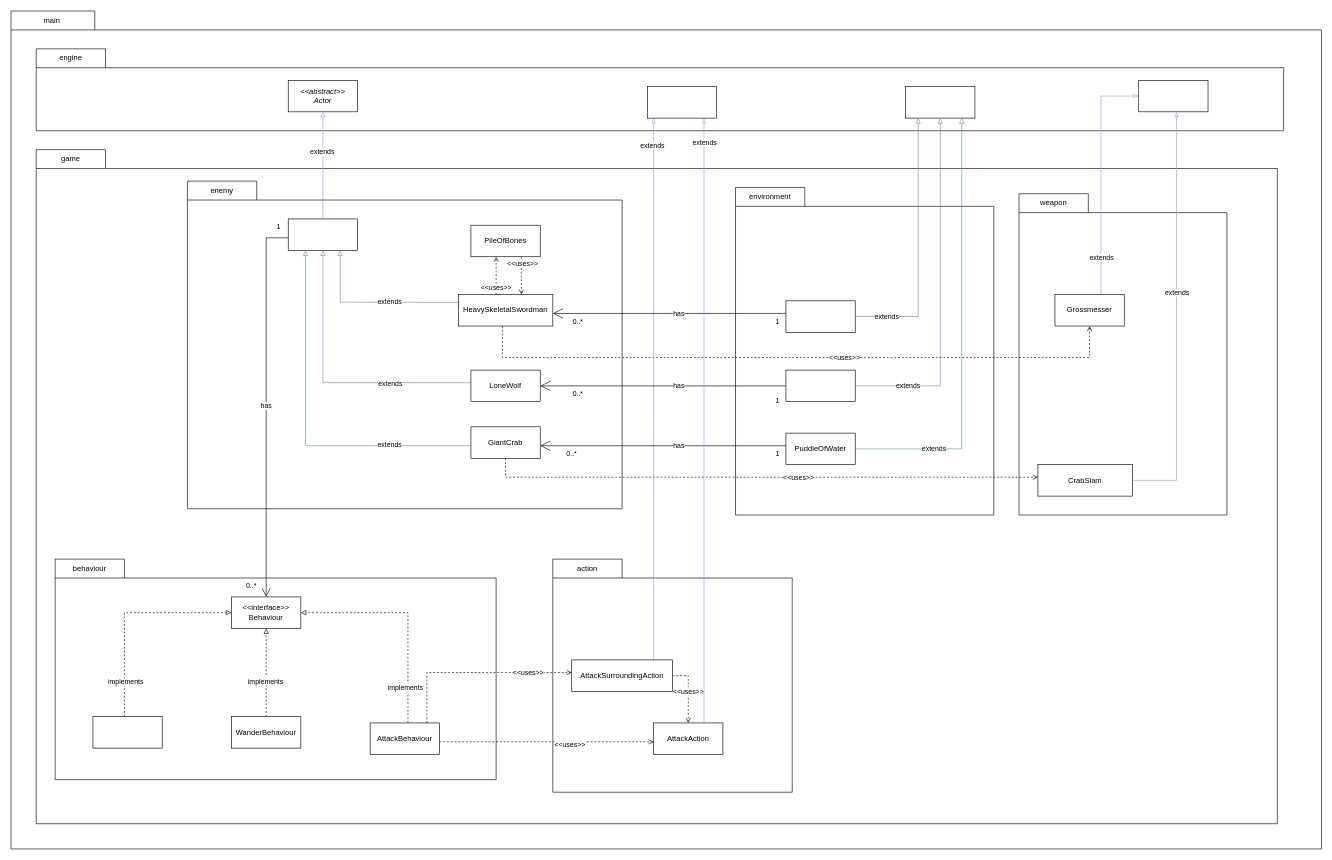
Some shapes in this 1332 by 860 pixel diagram are drawn without their labels. The centre of each missing label's shape, as x and y in pixels:
"<<abstract>> Action" goes at (682,102).
"<<abstract>> Enemy" goes at (323,234).
"<<abstract>> Ground" goes at (940,102).
"<<abstract>> WeaponItem" goes at (1173,96).
"FollowBehaviour" goes at (127,732).
"Graveyard" goes at (820,316).
"GustOfWind" goes at (820,385).
